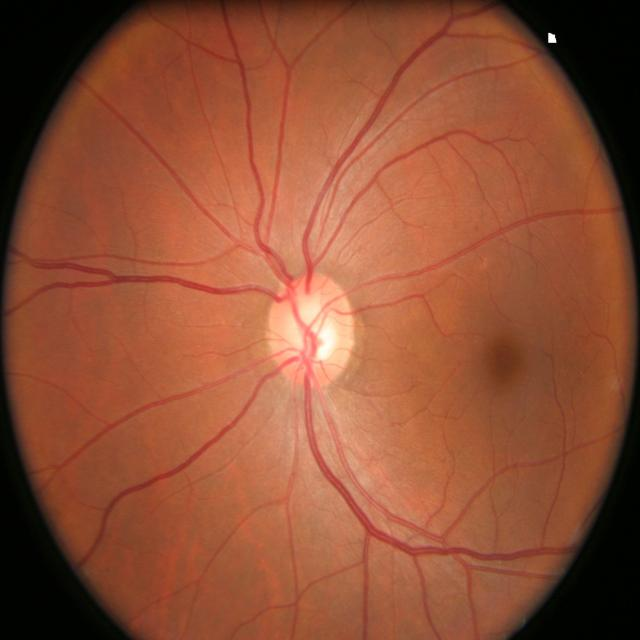OC: (289, 292, 340, 362)
OD: (265, 275, 355, 388)
